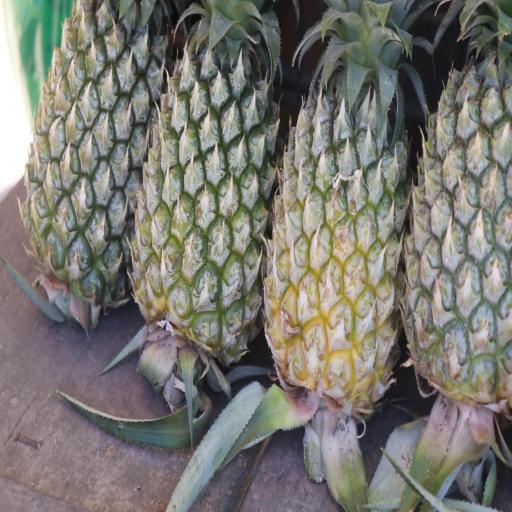------------------------------: (258, 0, 410, 432)
